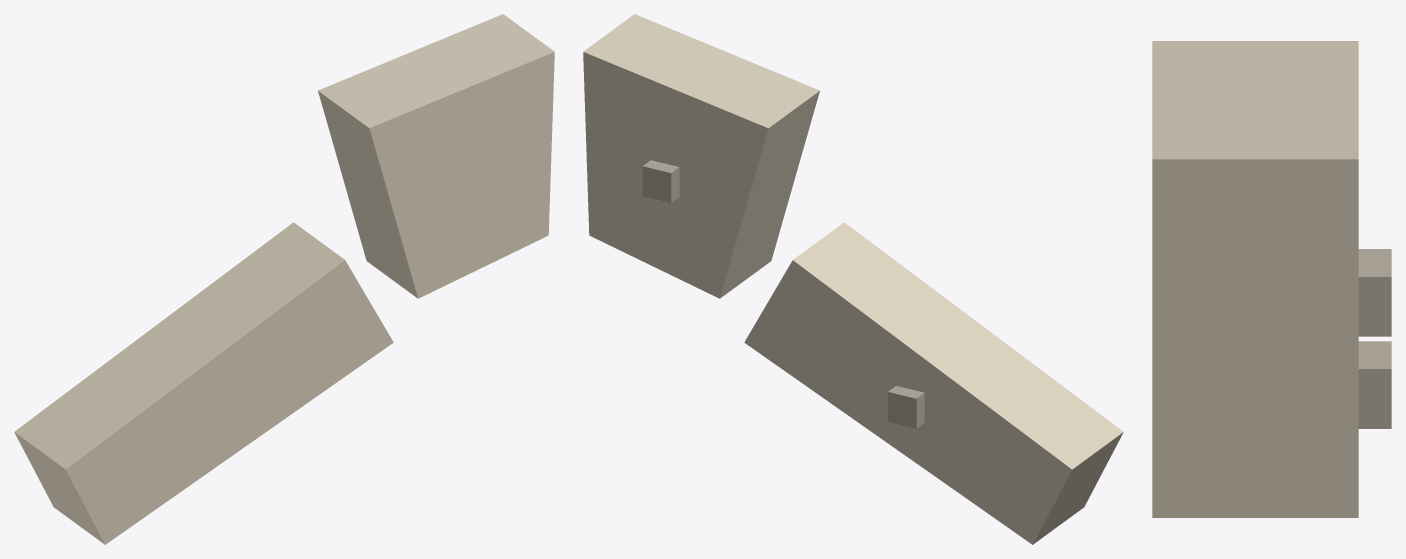
File: historic-palestine-14_30_3555_3240.glb
The picture shows the model from 3 angles, left to right: view 1: azimuth 30°, elevation 25°; view 2: azimuth 150°, elevation 25°; view 3: azimuth 270°, elevation 25°; orthographic projection. The views are drawn at different scales.
Parts seen in each view (by area): view 1: Building_, Building_.001; view 2: Building_, Building_.001, Roof access hut .001, Roof access hut; view 3: Building_.001, Roof access hut, Roof access hut .001.
Part boxes in pixels (x1=…): Building_: x1=14, y1=222, x2=393, y2=544; Building_.001: x1=318, y1=14, x2=554, y2=298; Building_: x1=744, y1=222, x2=1123, y2=544; Building_.001: x1=583, y1=14, x2=819, y2=298; Roof access hut .001: x1=642, y1=160, x2=679, y2=202; Roof access hut: x1=888, y1=386, x2=924, y2=428; Building_.001: x1=1152, y1=41, x2=1358, y2=517; Roof access hut: x1=1358, y1=341, x2=1391, y2=428; Roof access hut .001: x1=1358, y1=249, x2=1391, y2=336.
Size of the model in its own units: 41.05 by 30.76 by 8.7.
